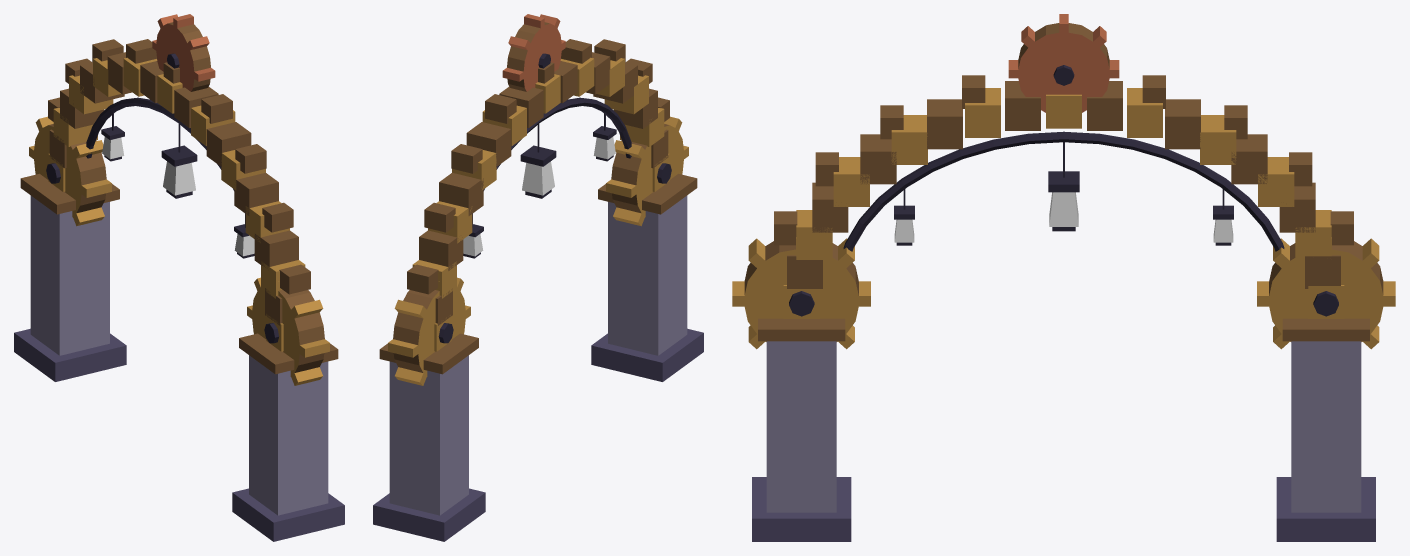
The model's file is Fair_GearBridge.fbx.
3 renders of one model, left to right at view 1: azimuth 30°, elevation 25°; view 2: azimuth 150°, elevation 25°; view 3: azimuth 270°, elevation 25°, orthographic. The views are drawn at different scales.
Parts seen in each view (by area): view 1: Fair_GearBridge; view 2: Fair_GearBridge; view 3: Fair_GearBridge.
Part boxes in pixels (left/top/right/bottom): Fair_GearBridge: left=14, top=14, right=344, bottom=541; Fair_GearBridge: left=373, top=14, right=703, bottom=541; Fair_GearBridge: left=732, top=14, right=1395, bottom=541.
Size of what is drawn, in the model's own units: 1.7 by 9.55 by 11.38.
Materials: 2 (1 with a texture image).
